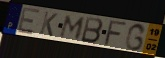B: (80, 16, 105, 45)
E: (16, 6, 42, 36)
F: (102, 20, 129, 47)
G: (123, 23, 147, 52)
K: (38, 11, 59, 39)
M: (58, 14, 87, 41)
